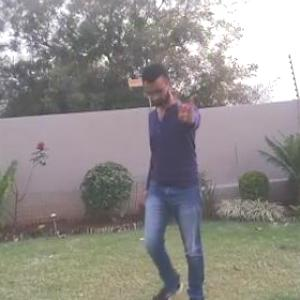takeoff-hand: (173, 83, 204, 123)
